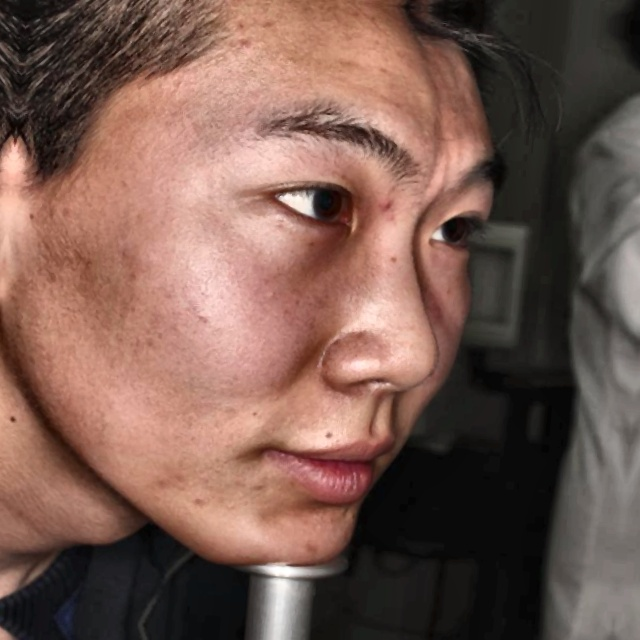comedone: (358, 189, 410, 227)
